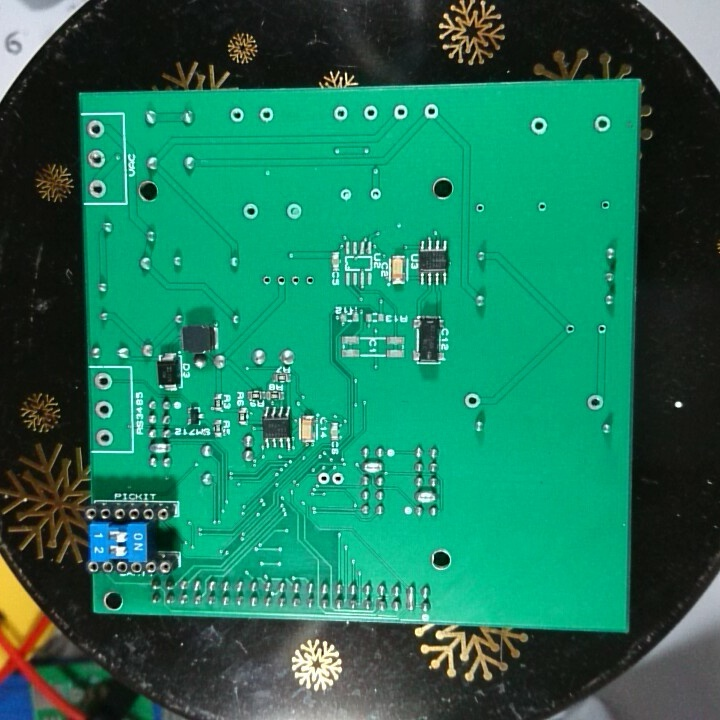F: (87, 175, 111, 202), (84, 118, 109, 143), (527, 114, 553, 138), (92, 369, 116, 395), (86, 146, 110, 171), (94, 395, 116, 421), (462, 390, 486, 412), (588, 113, 613, 134), (330, 102, 353, 124), (93, 423, 116, 445), (361, 102, 382, 125), (284, 199, 304, 223), (241, 201, 262, 223), (392, 100, 411, 122), (256, 103, 276, 123), (227, 105, 247, 124), (422, 101, 439, 123), (584, 391, 607, 407), (314, 469, 330, 491), (367, 183, 384, 203), (331, 469, 347, 490), (561, 320, 579, 336), (336, 186, 354, 202), (595, 320, 608, 338), (535, 198, 550, 213), (261, 272, 274, 289), (599, 198, 613, 213), (472, 200, 487, 214), (274, 274, 287, 289), (290, 272, 301, 289), (302, 273, 315, 287)
P: (145, 440, 176, 456), (404, 582, 419, 615), (362, 460, 387, 477), (414, 489, 439, 506)
